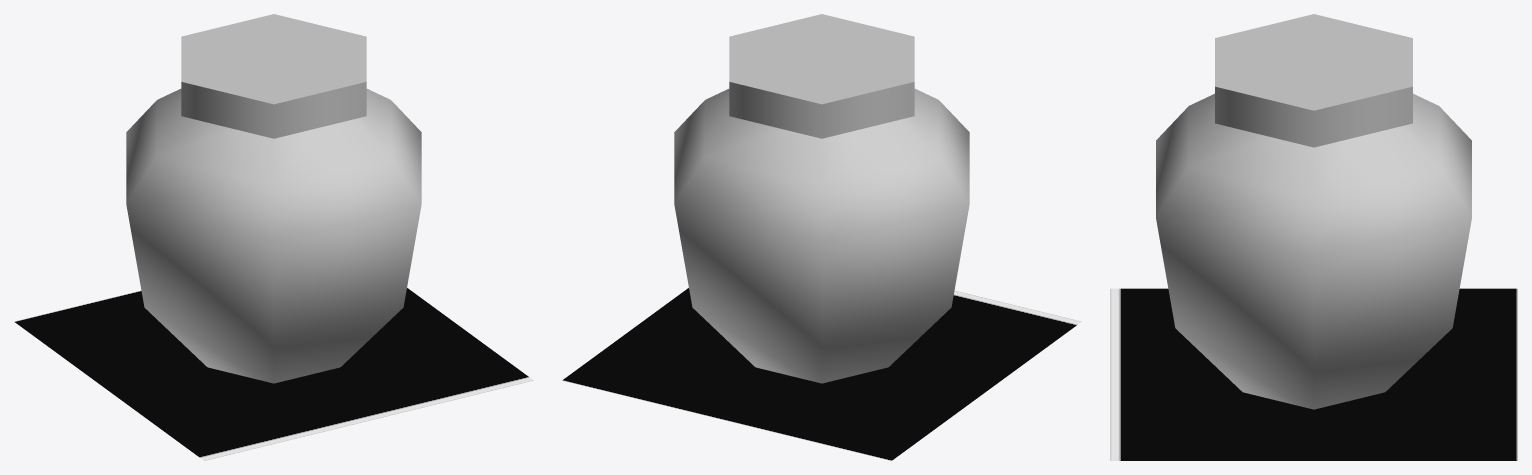
Rendered from vase_02.fbx.
The picture shows the model from 3 angles, left to right: view 1: azimuth 30°, elevation 25°; view 2: azimuth 150°, elevation 25°; view 3: azimuth 270°, elevation 25°; orthographic projection. The views are drawn at different scales.
Visible parts, largest first — view 1: vase_02, shadow; view 2: vase_02, shadow; view 3: vase_02, shadow.
Part boxes in pixels (<box>): vase_02: <box>126,14,421,383</box>; shadow: <box>14,288,533,460</box>; vase_02: <box>674,14,969,383</box>; shadow: <box>562,288,1081,460</box>; vase_02: <box>1156,14,1471,409</box>; shadow: <box>1110,288,1517,460</box>.
Size of the model in its own units: 23.39 by 20.19 by 23.39.
